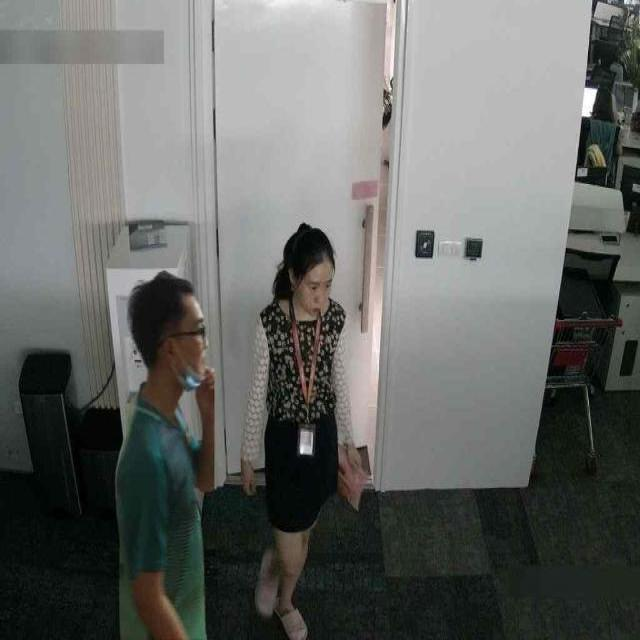bare_hand: (183, 352, 231, 433), (231, 443, 267, 509)
